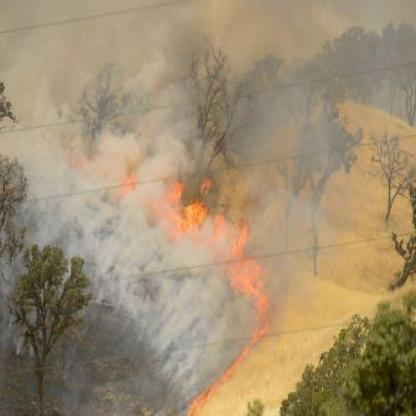fire: (103, 160, 265, 266), (185, 336, 264, 414), (220, 247, 272, 340)
